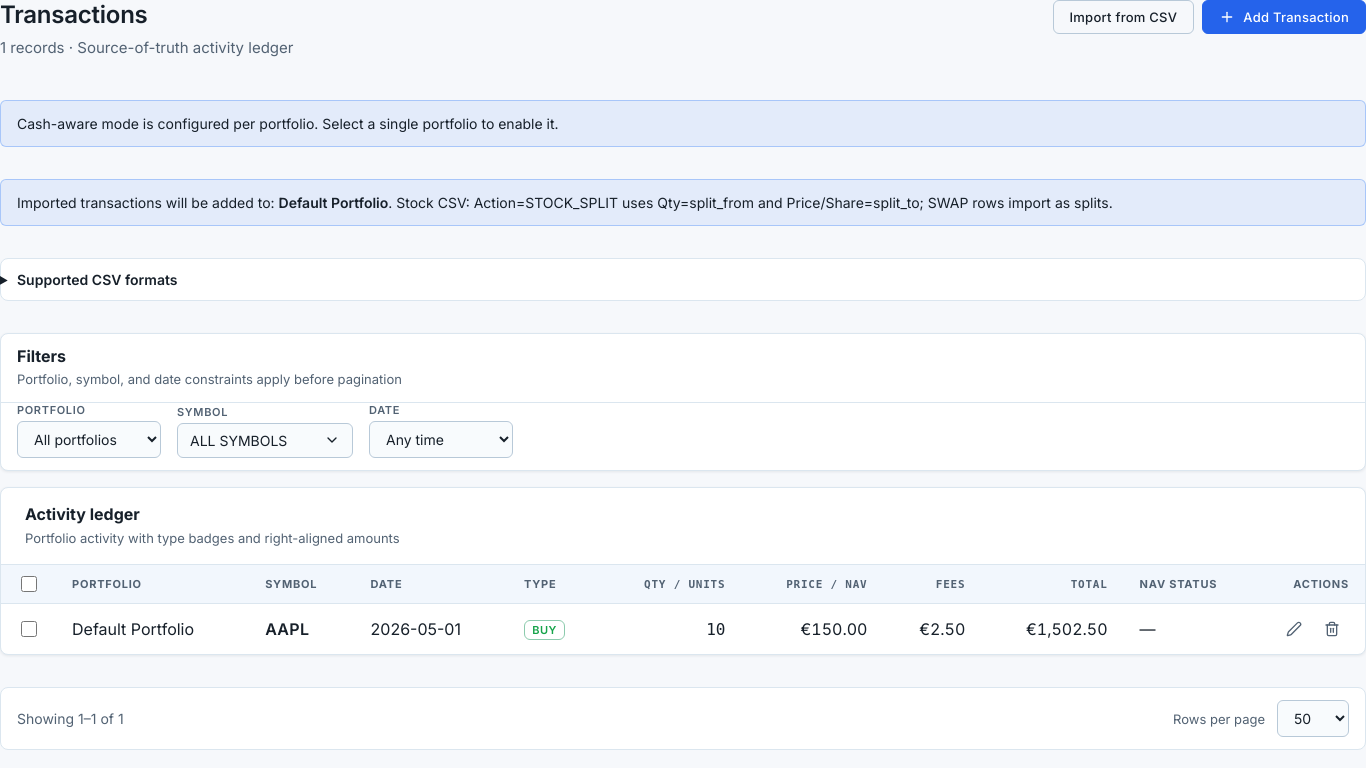
Test: Transactions Page › opens edit modal and pre-fills data
The image size is (1366, 768).
Expected: the text "AAPL" is shown, [265,619,309,639]
Click the button titled "Edit" at [1294, 629], box [1277,612,1311,646]
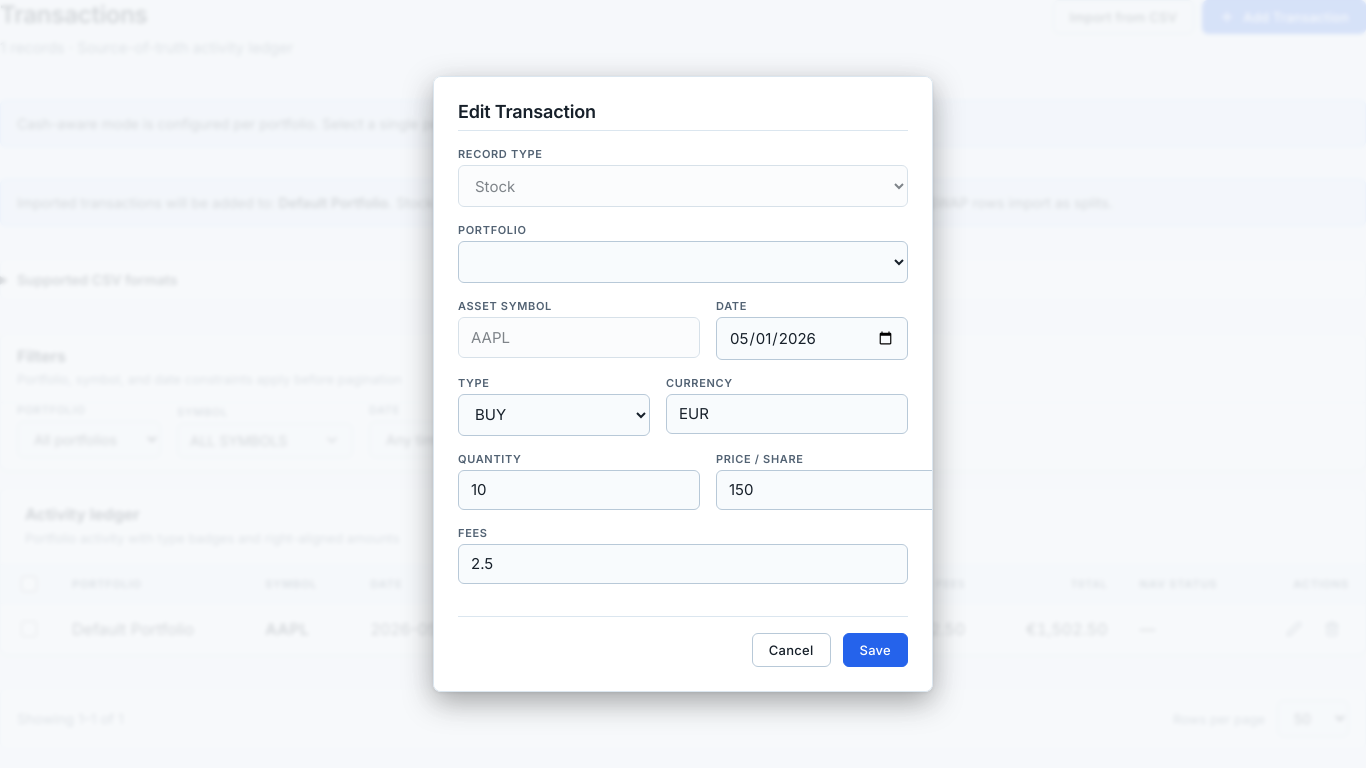
Expected: the heading "Edit Transaction" is shown, [458,101,908,131]
Expected: the field showing "AAPL" below "Asset Symbol" is shown, [458,317,700,358]
Expected: the number field showing "10" below "Quantity" is shown, [458,470,700,510]
